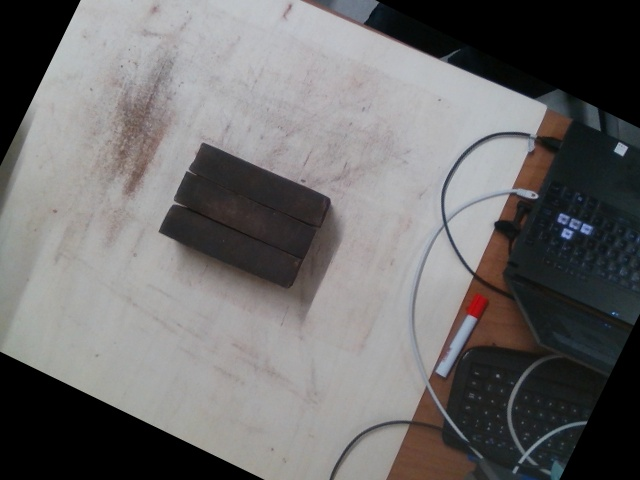brick-side: (190, 144, 327, 227), (174, 175, 311, 258), (160, 205, 297, 288)
